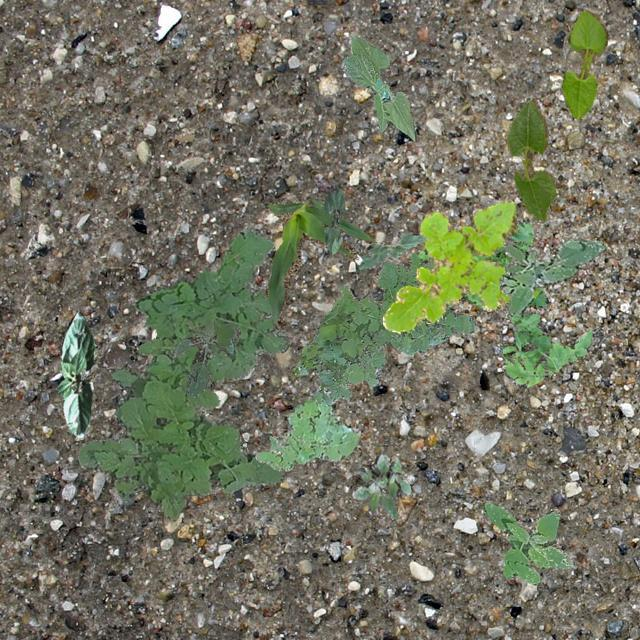crop: (264, 195, 376, 328), (341, 32, 416, 140), (504, 99, 554, 220), (56, 310, 96, 436), (562, 8, 606, 118), (358, 232, 426, 268), (322, 184, 344, 254)
weed: (76, 226, 288, 520), (416, 218, 604, 388), (292, 252, 473, 404), (382, 200, 536, 332), (498, 238, 606, 316), (254, 398, 360, 470), (482, 502, 574, 584), (170, 318, 240, 397), (352, 454, 409, 518)
